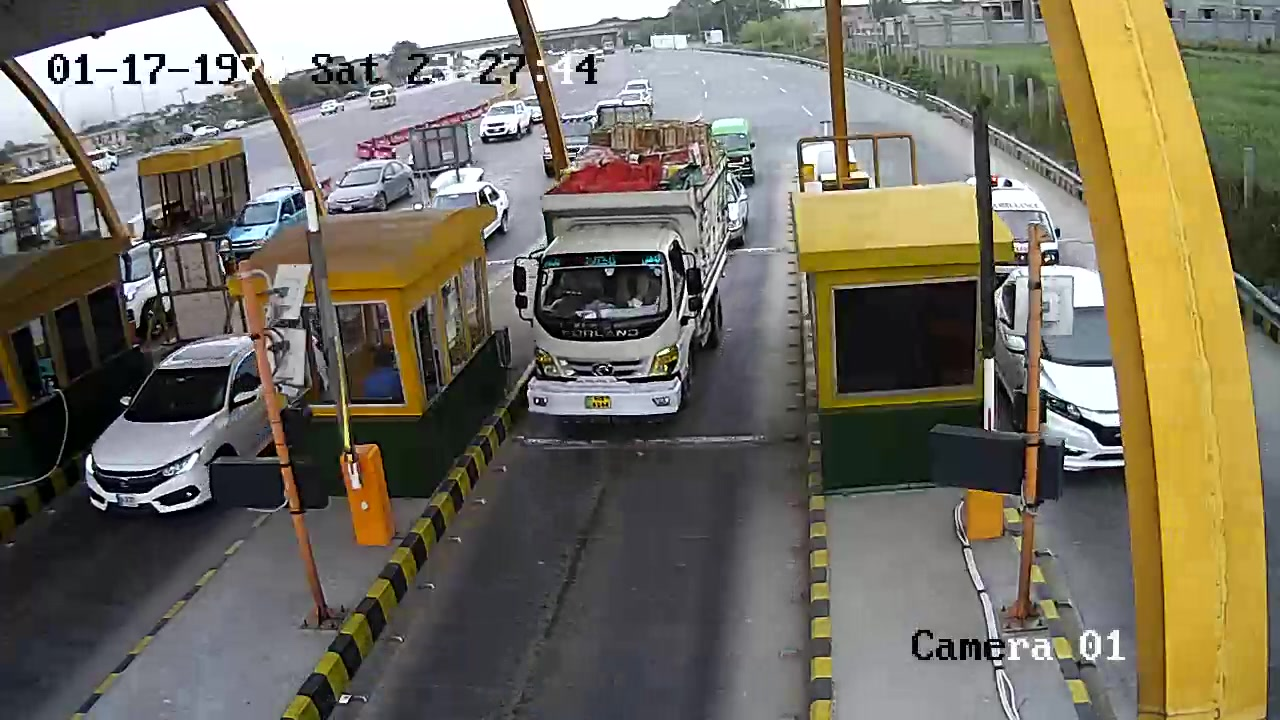F5: (519, 113, 741, 435)
